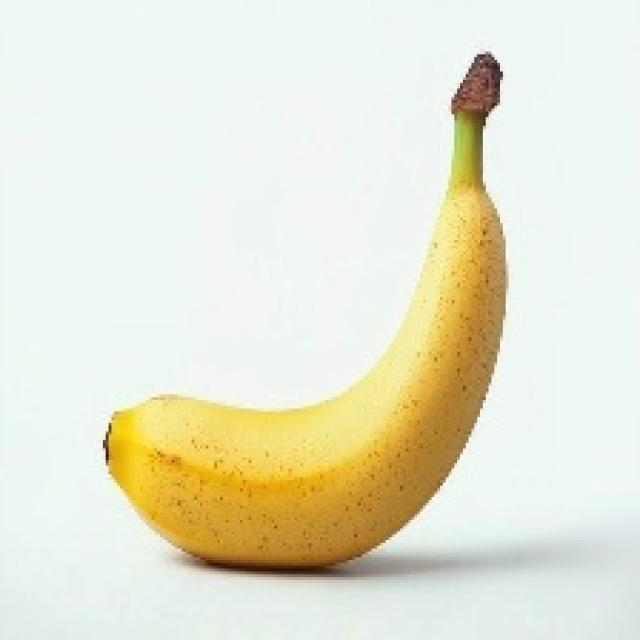Banana: (100, 49, 509, 568)
